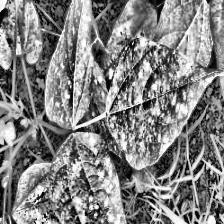Bean Rust: (103, 38, 224, 171), (41, 0, 107, 131), (52, 136, 147, 224), (109, 0, 156, 71), (14, 161, 63, 224), (0, 0, 41, 71), (206, 0, 224, 126)
